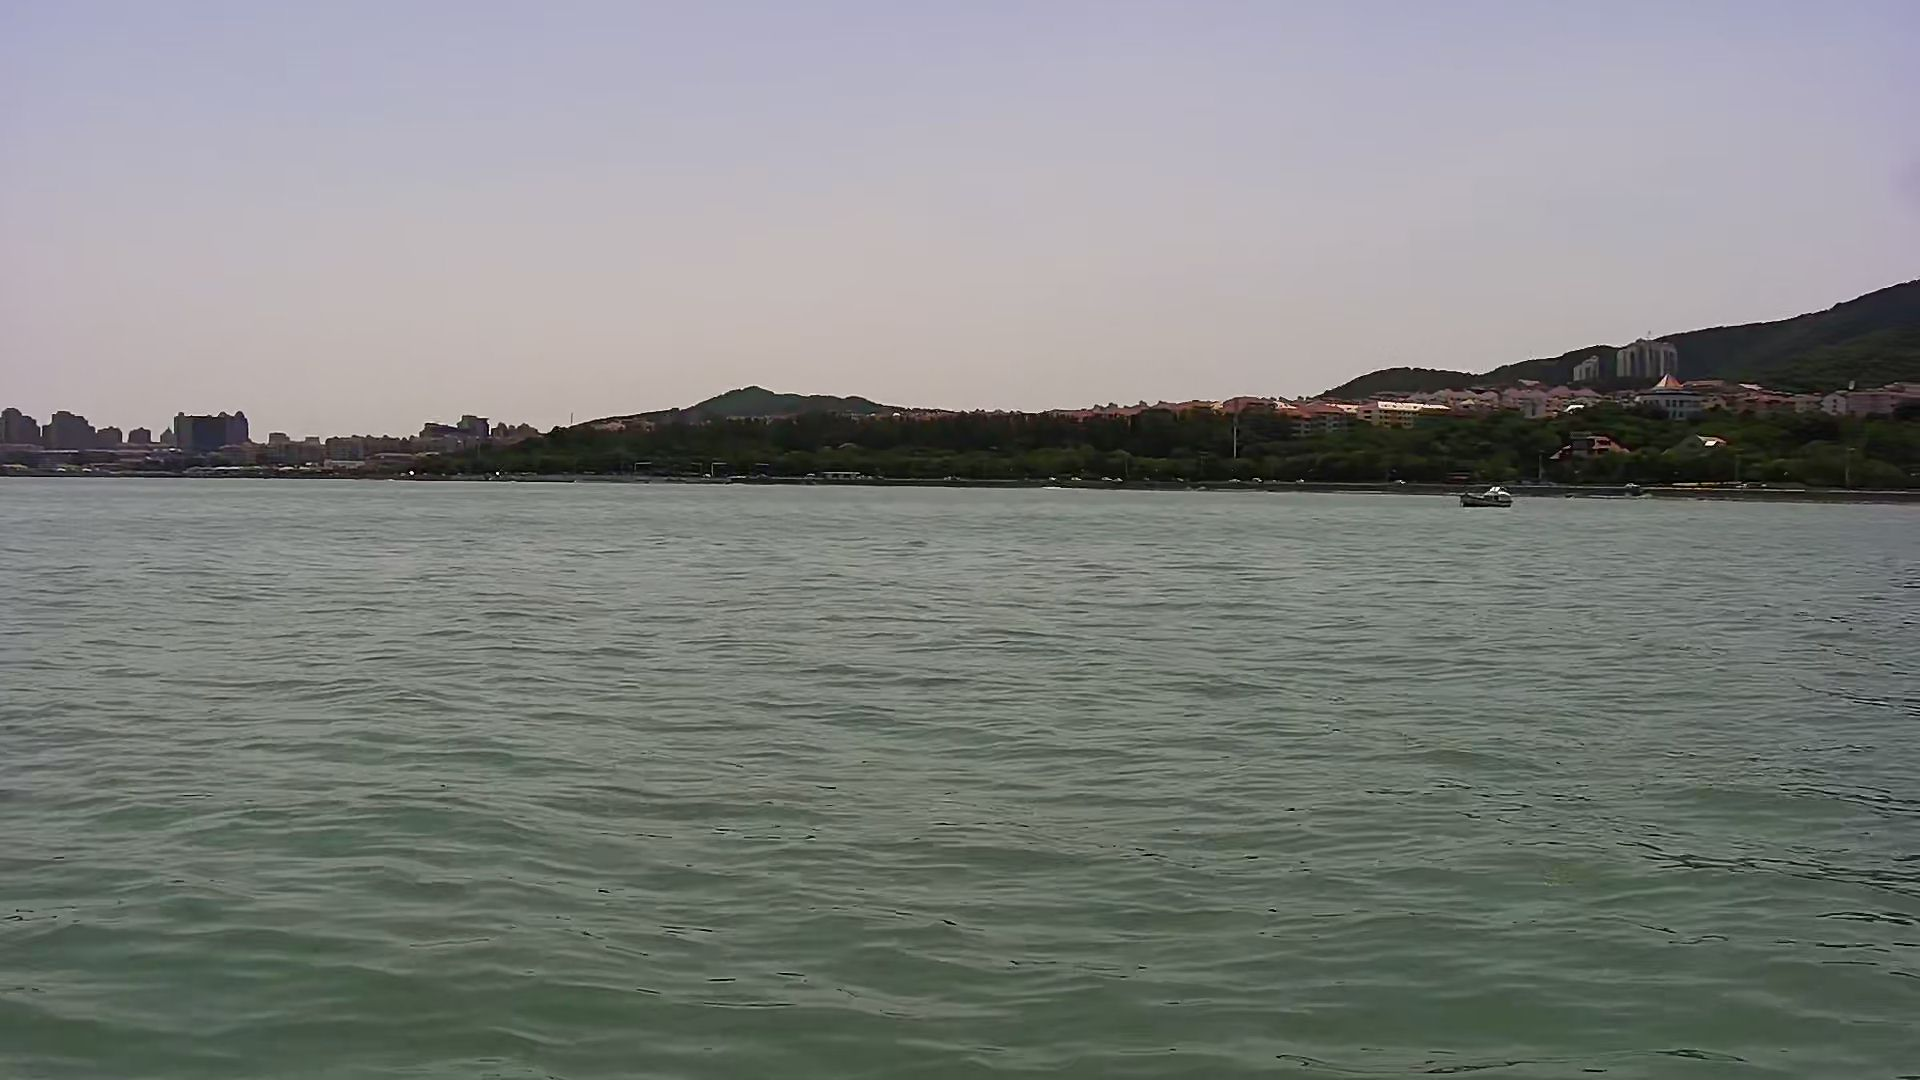ship: (1457, 483, 1524, 516)
